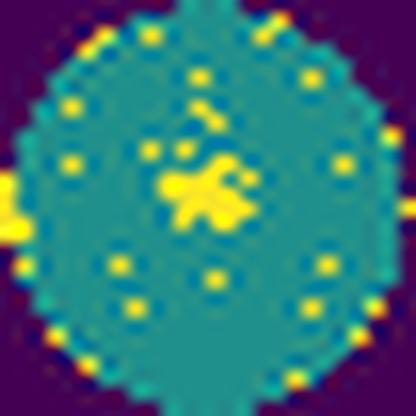Center: (159, 150, 263, 238)
